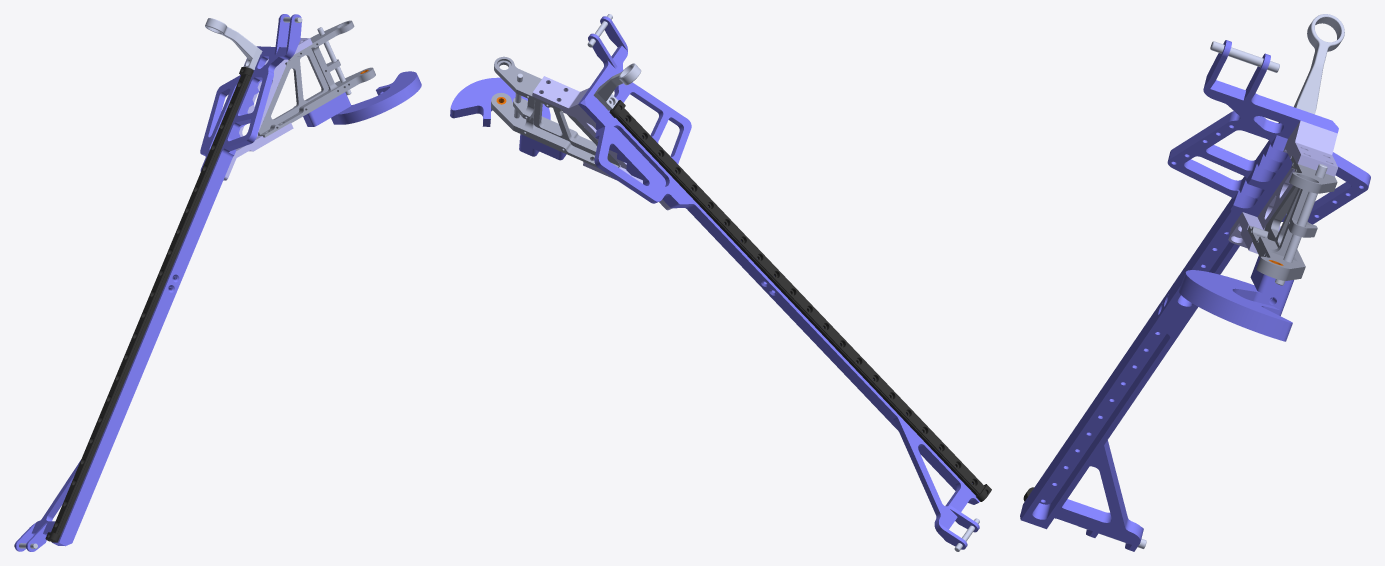
3 renders of one model, left to right at view 1: azimuth 30°, elevation 25°; view 2: azimuth 150°, elevation 25°; view 3: azimuth 270°, elevation 25°, orthographic. The views are drawn at different scales.
Parts seen in each view (by area): view 1: Actor0, Actor5, Actor6, Actor1, Actor3, Actor4, Actor9; view 2: Actor0, Actor5, Actor6, Actor1, Actor3, Actor4, Actor9; view 3: Actor0, Actor6, Actor3, Actor1, Actor4, Actor9, Actor8, Actor2.
Part boxes in pixels (box(x1,y1,x2,y2)): Actor0: box(162, 14, 301, 296); Actor5: box(45, 67, 253, 542); Actor6: box(14, 276, 175, 551); Actor1: box(258, 20, 375, 137); Actor3: box(303, 71, 421, 126); Actor4: box(223, 38, 312, 180); Actor9: box(205, 18, 262, 69); Actor0: box(578, 16, 782, 298); Actor5: box(609, 100, 991, 501); Actor6: box(765, 282, 979, 549); Actor1: box(491, 56, 620, 167); Actor3: box(450, 77, 566, 160); Actor4: box(532, 76, 672, 210); Actor9: box(593, 63, 641, 110); Actor0: box(1155, 40, 1370, 331); Actor6: box(1020, 304, 1186, 551); Actor3: box(1179, 255, 1293, 341); Actor1: box(1247, 155, 1337, 280); Actor4: box(1228, 120, 1338, 253); Actor9: box(1294, 14, 1344, 114); Actor8: box(1275, 164, 1327, 285); Actor2: box(1210, 41, 1279, 72).
Bounding box in the file's own units: 0.4382 × 0.4229 × 0.1762.
